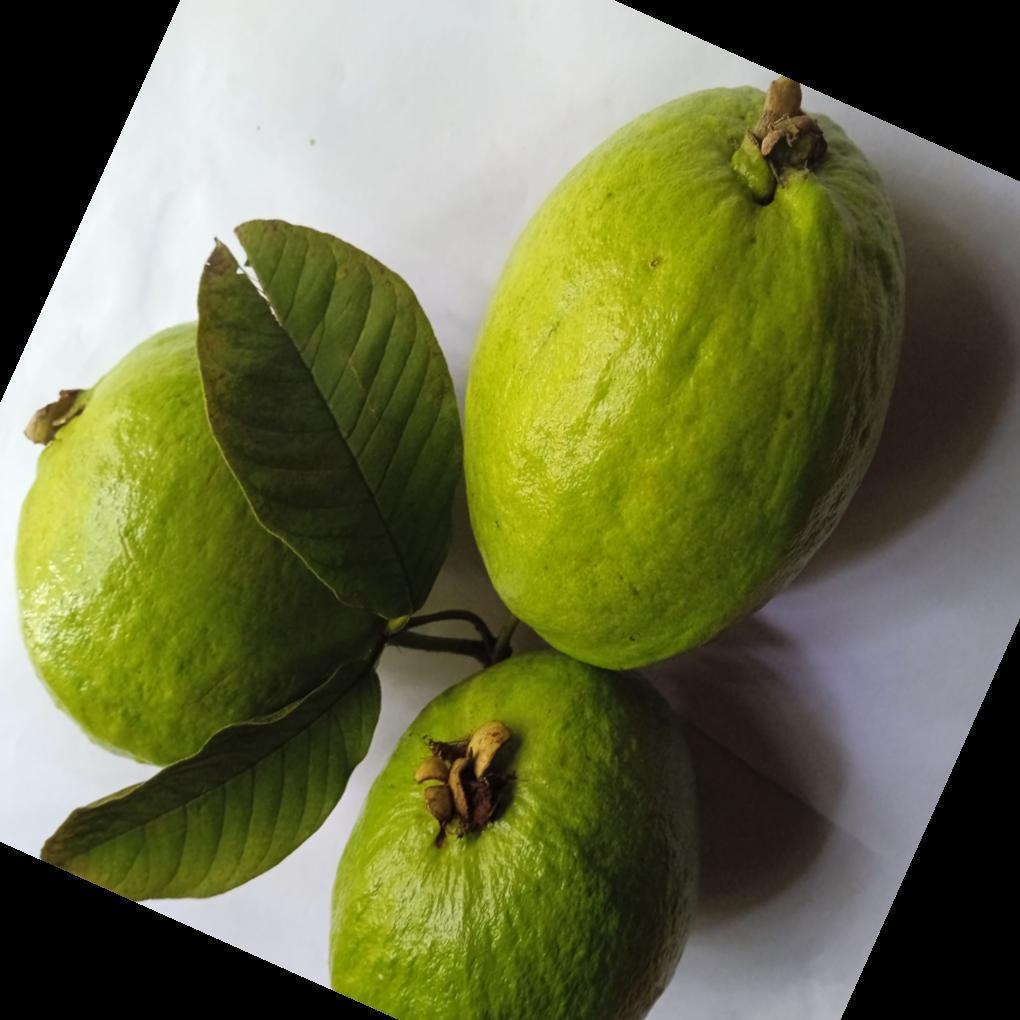FreshGuava: (12, 77, 907, 1020)
